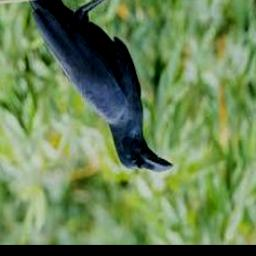Crow: (17, 0, 174, 173)
